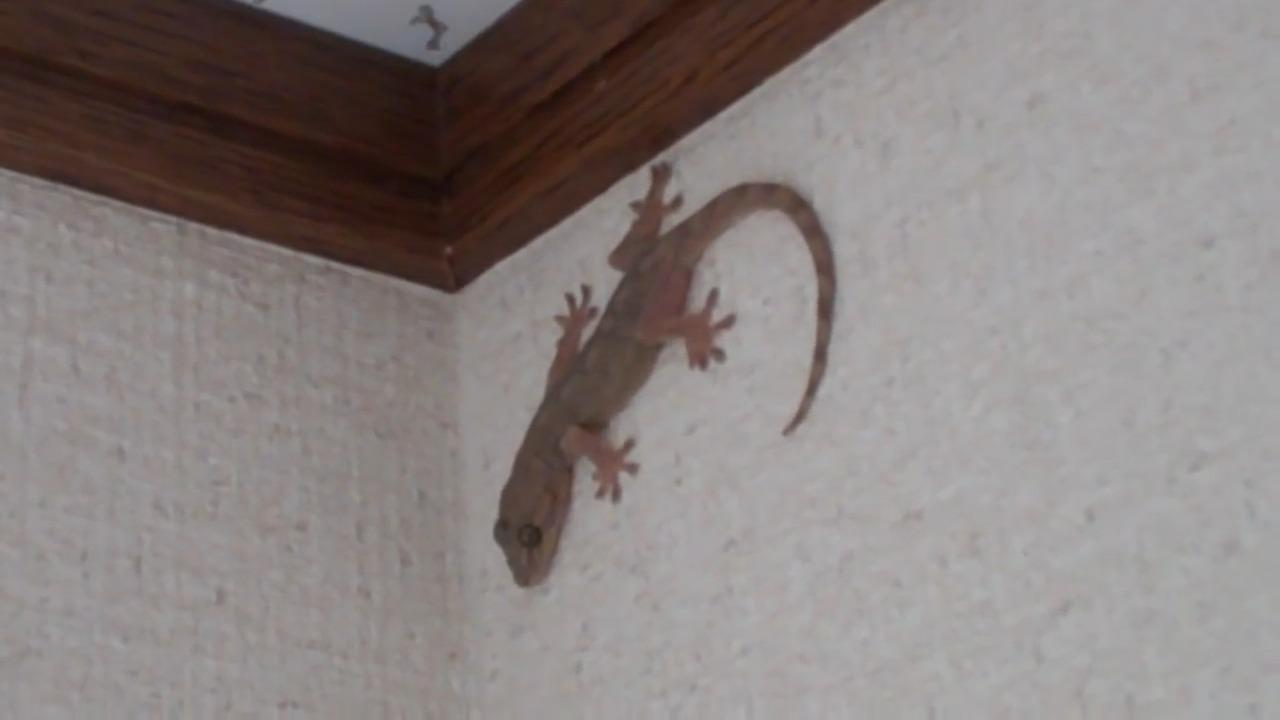lizard: (481, 153, 841, 591)
